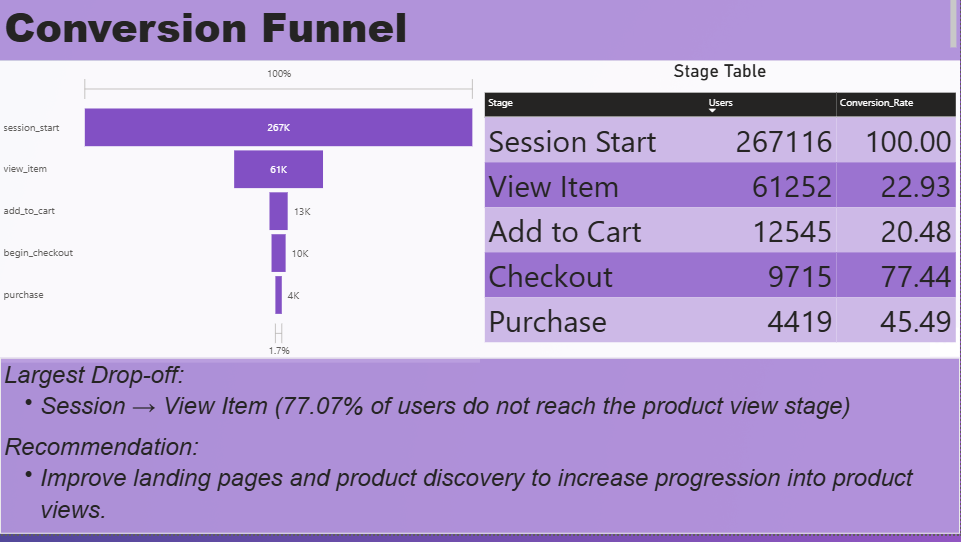

The page's visual inventory and layout, read from the dashboard file:
{"tool":"powerbi","page":{"name":"Page 2","canvas":[1280,720],"ordinal":1},"visuals":[{"type":"funnel","fields":{"Category":["conversion_funnel.event_name"],"Y":["Sum(conversion_funnel.users)"]},"box":[0,88.6,640,402.9],"z":0},{"type":"textbox","box":[0,485.7,1280,234.3],"z":1000},{"type":"tableEx","title":"Stage Table","fields":{"Values":["bquxjob_413ffa18_19f5207737b.Stage","bquxjob_413ffa18_19f5207737b.Users","bquxjob_413ffa18_19f5207737b.Conversion_Rate"]},"box":[640,88.5,640,396.9],"z":2000},{"type":"textbox","box":[0,0,1280,88],"z":3000}]}

Visuals, with their boxes in screenshot pixels (x1, y1, x2, y2), scaled from the page's 1280x720 canvas onto the 961x542 screenshot:
funnel - conversion_funnel.event_name x Sum(conversion_funnel.users): pyautogui.locateOnScreen(0, 67, 480, 370)
textbox: pyautogui.locateOnScreen(0, 366, 960, 541)
"Stage Table" tableEx: pyautogui.locateOnScreen(480, 67, 960, 365)
textbox: pyautogui.locateOnScreen(0, 0, 960, 66)
